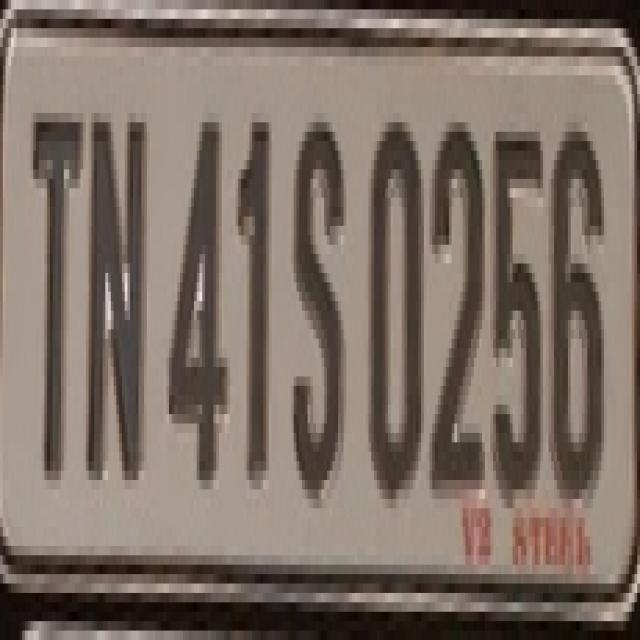0: (370, 105, 426, 516)
1: (234, 92, 274, 496)
4: (168, 90, 229, 498)
5: (490, 110, 546, 514)
6: (548, 107, 612, 523)
N: (84, 107, 150, 501)
S: (290, 99, 348, 516)
T: (31, 97, 83, 489)
